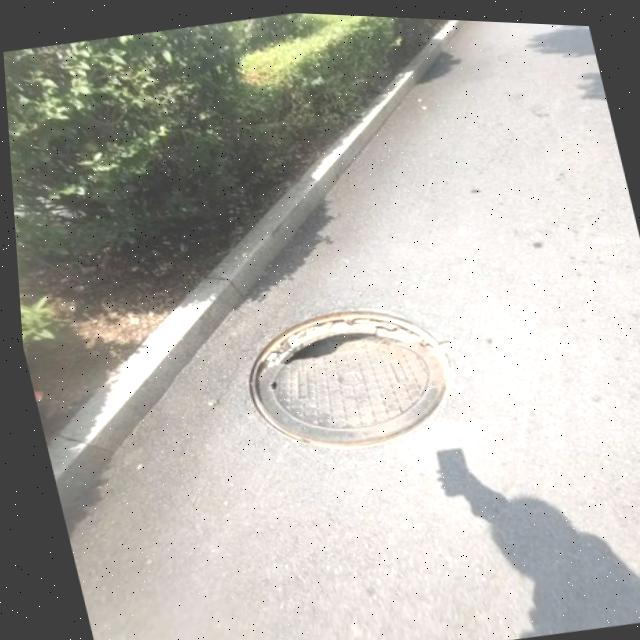manhole: (215, 282, 479, 476)
